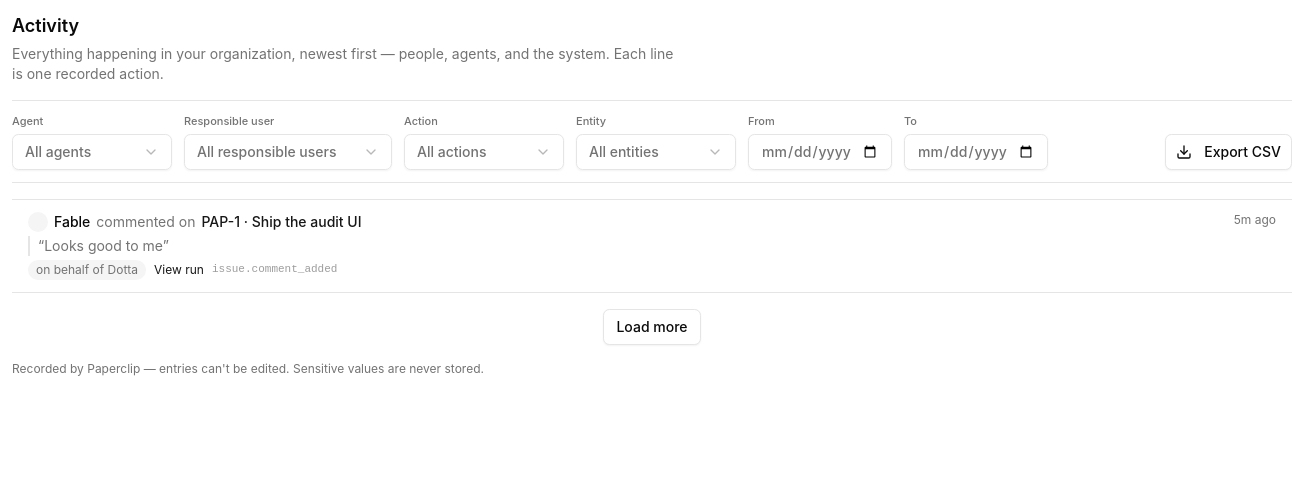
Scenario: AuditFeed › surfaces the retry UI when the access-downgrade recovery refetch fails
The width and height of the screenshot is (1304, 477).
Click the button "Load more" at {"x": 652, "y": 326}, box [603, 308, 700, 344]
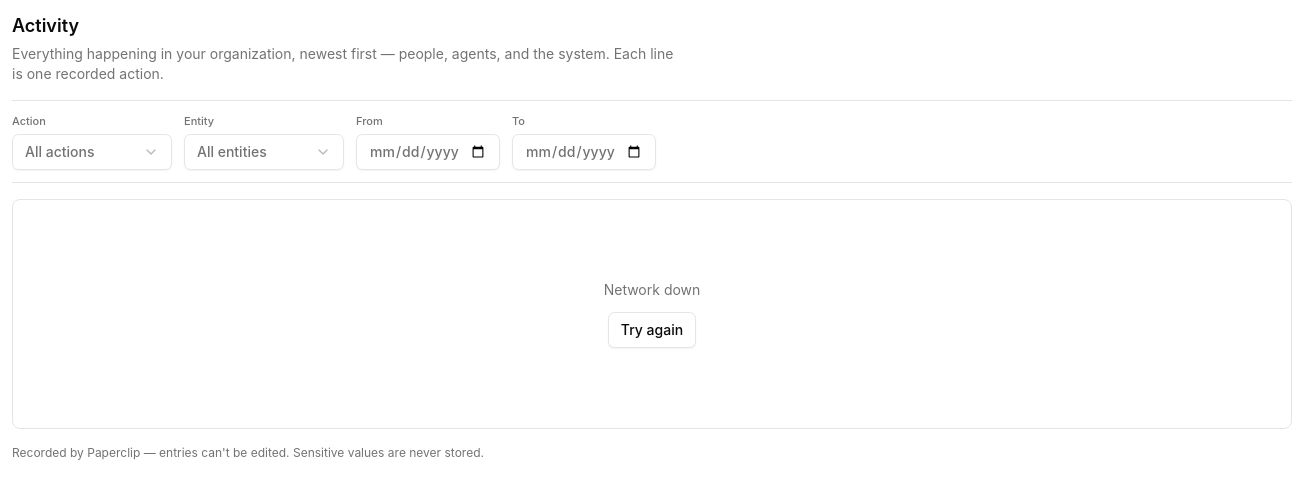
expect the text "Network down" is shown: met, box [604, 280, 700, 300]
expect the text "Try again" is shown: met, box [608, 312, 696, 348]
